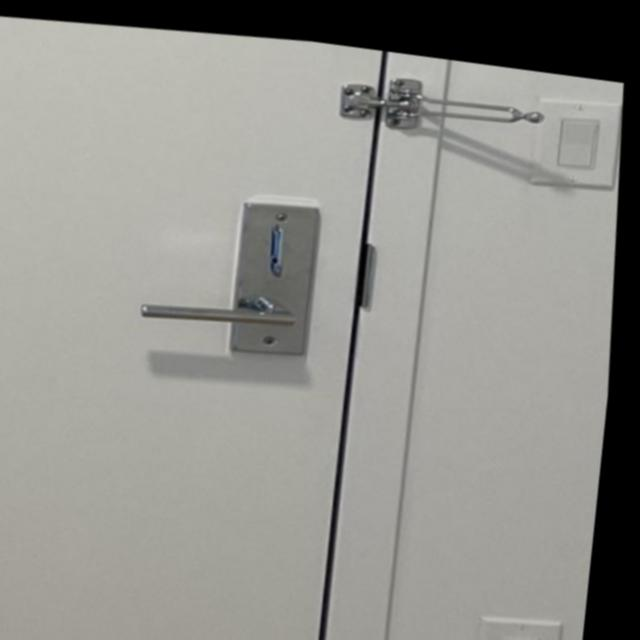door_handle: (134, 265, 340, 349)
